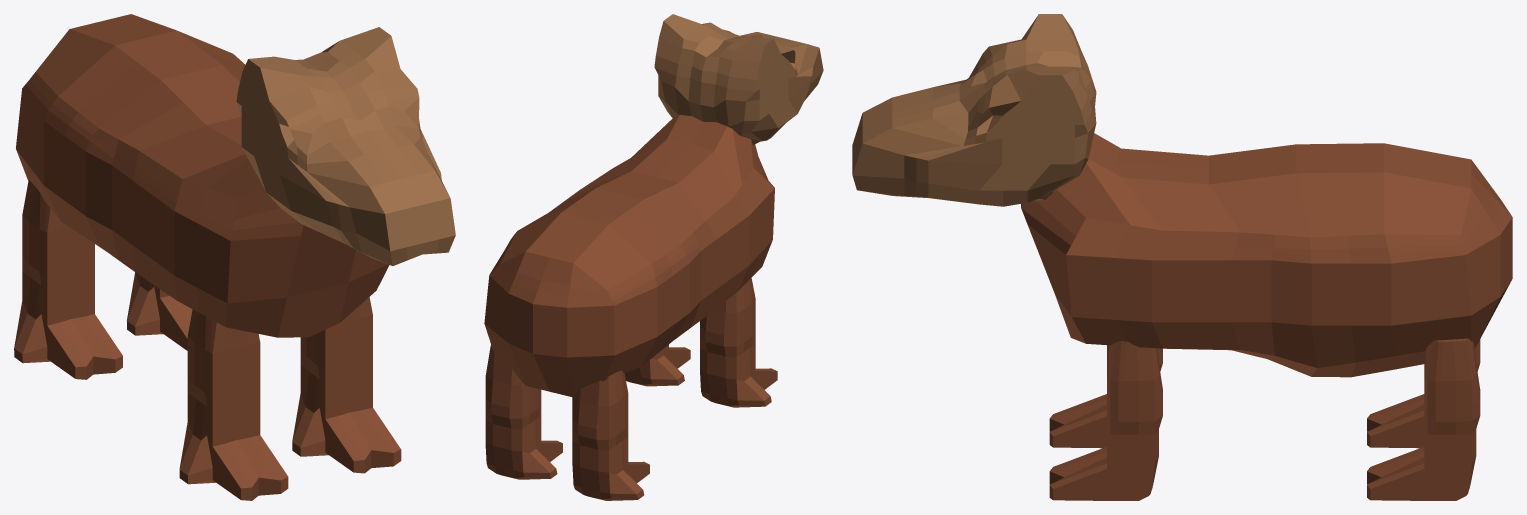
The model's file is capybaragod.glb.
3 renders of one model, left to right at view 1: azimuth 30°, elevation 25°; view 2: azimuth 150°, elevation 25°; view 3: azimuth 270°, elevation 25°, orthographic. The views are drawn at different scales.
Visible parts, largest first — view 1: Cube.006; view 2: Cube.006; view 3: Cube.006.
Boxes of the visible parts, <box> form: Cube.006: <box>14,14,455,500</box>; Cube.006: <box>484,14,823,500</box>; Cube.006: <box>852,14,1512,500</box>.
Bounding box in the file's own units: 10.06 × 21.16 × 29.97.
